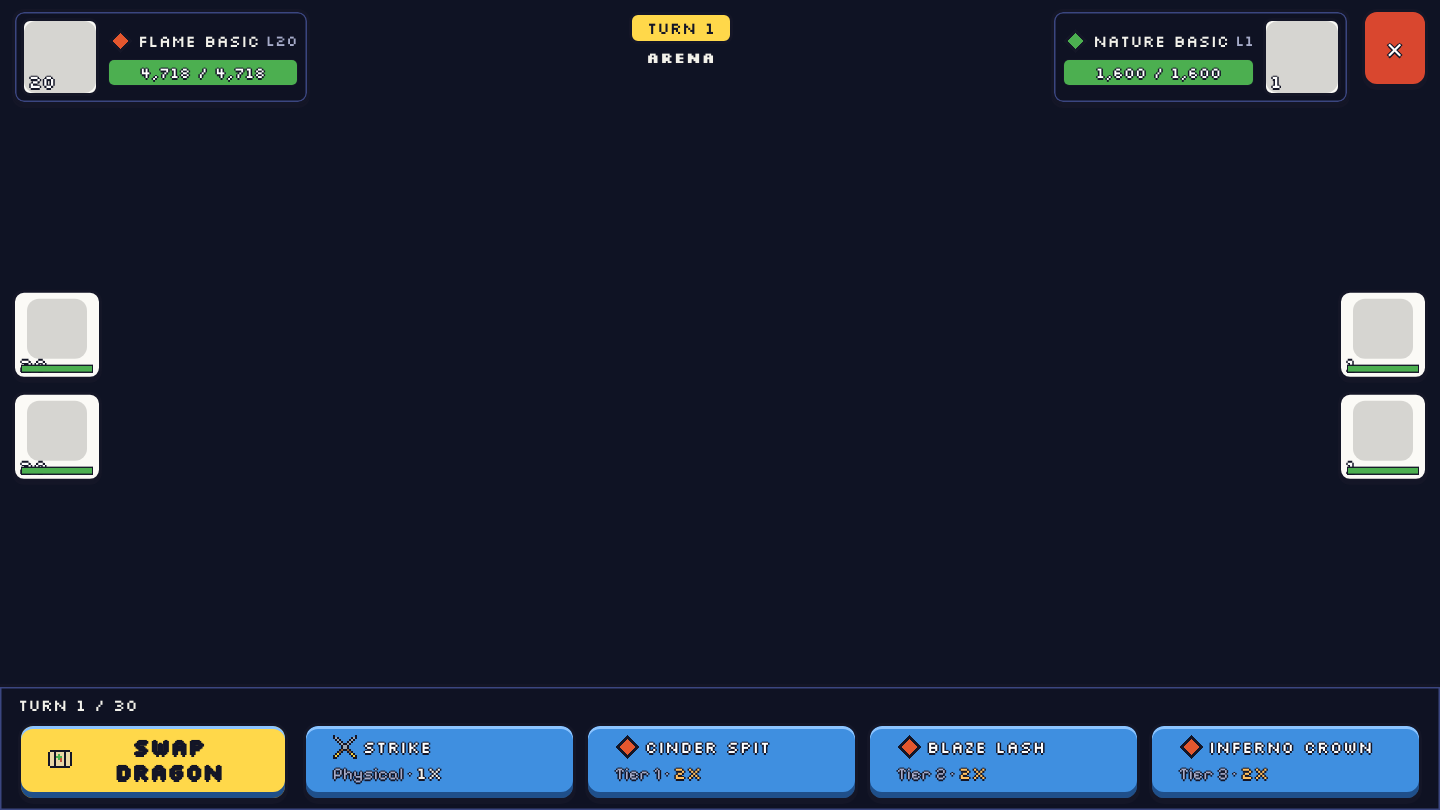
it: BattlePanel › Escape closes the Swap list first, then asks to abandon
The image size is (1440, 810).
Step 1. Click the button "Swap Dragon" → (153, 762), box [18, 723, 288, 801]
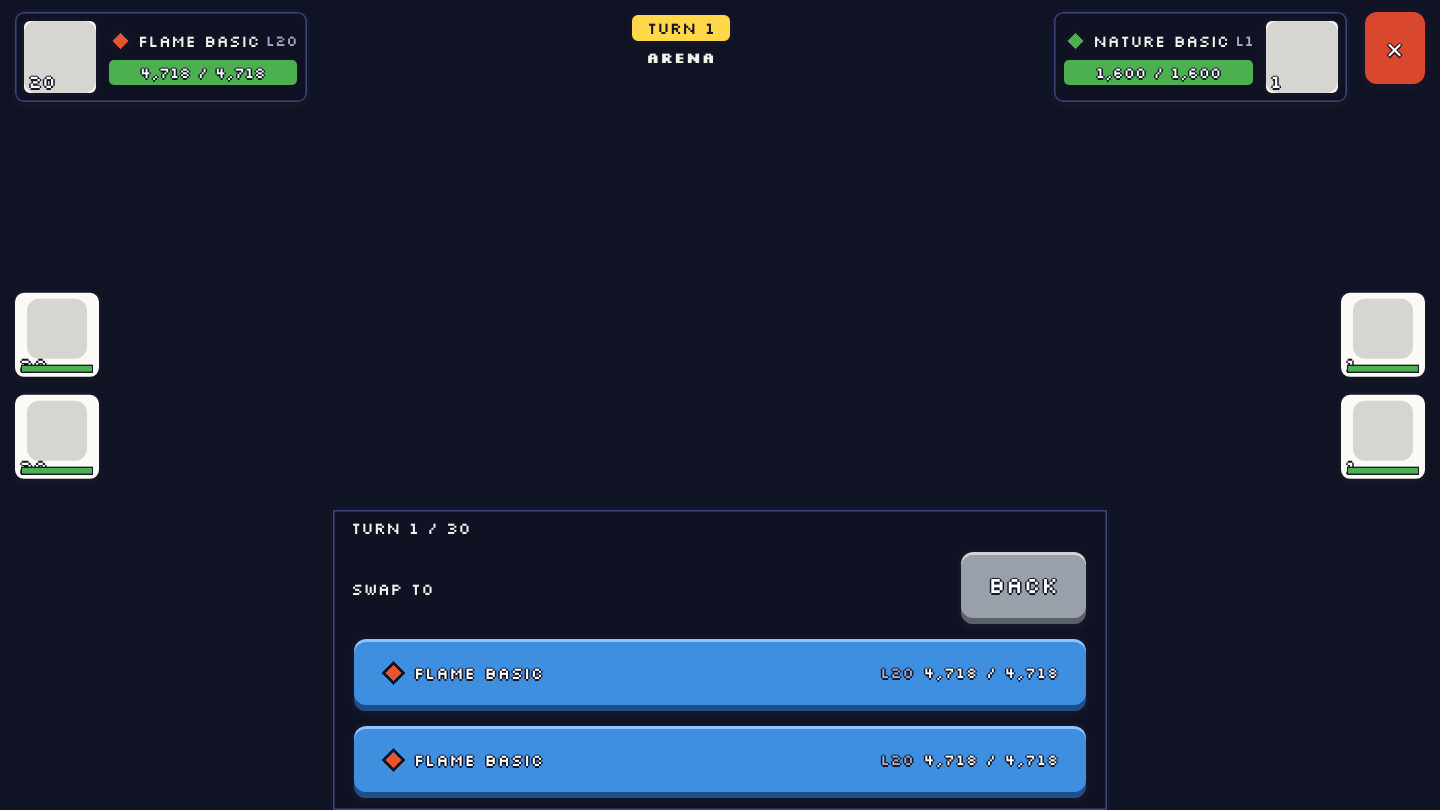
Step 2. Press Escape
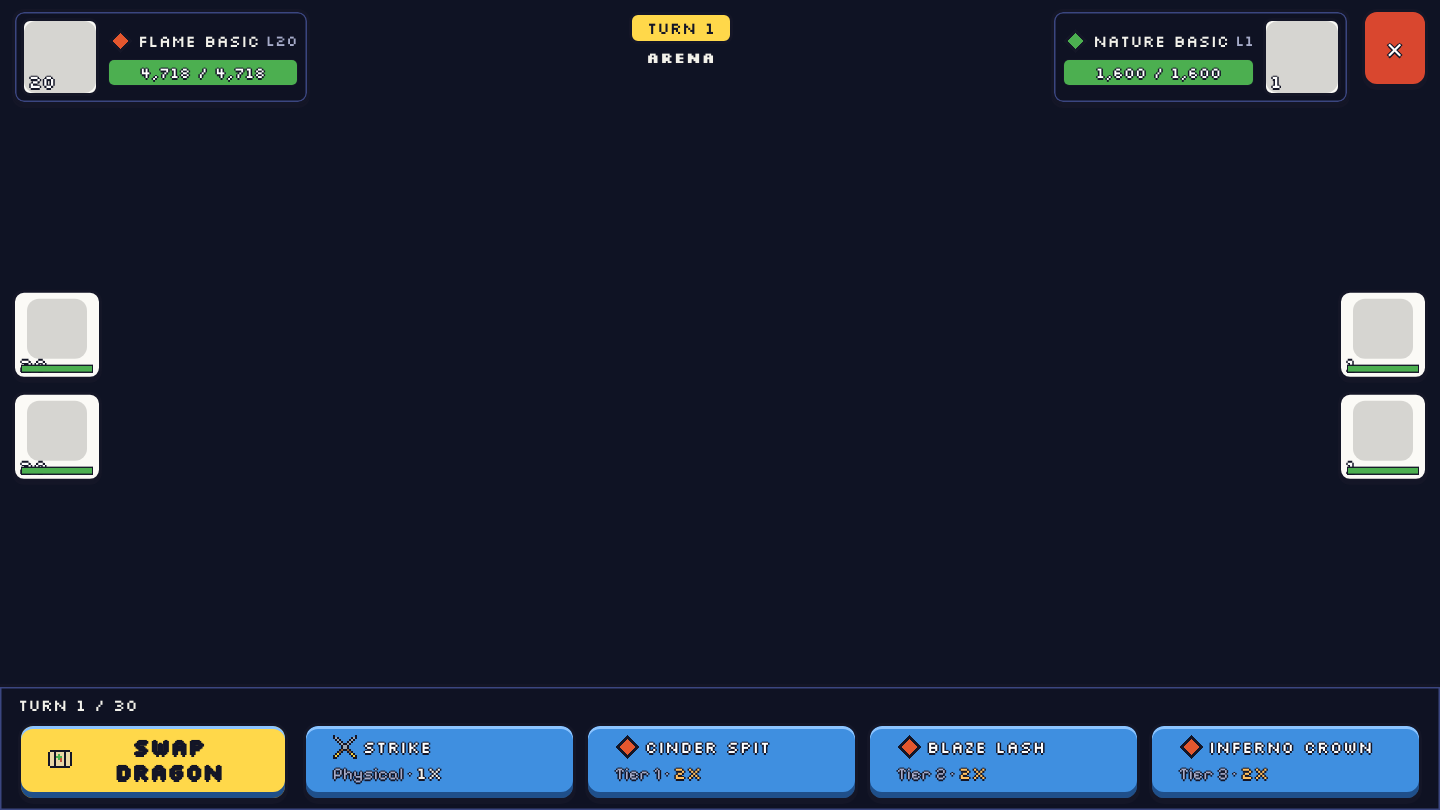
Step 3. Press Escape
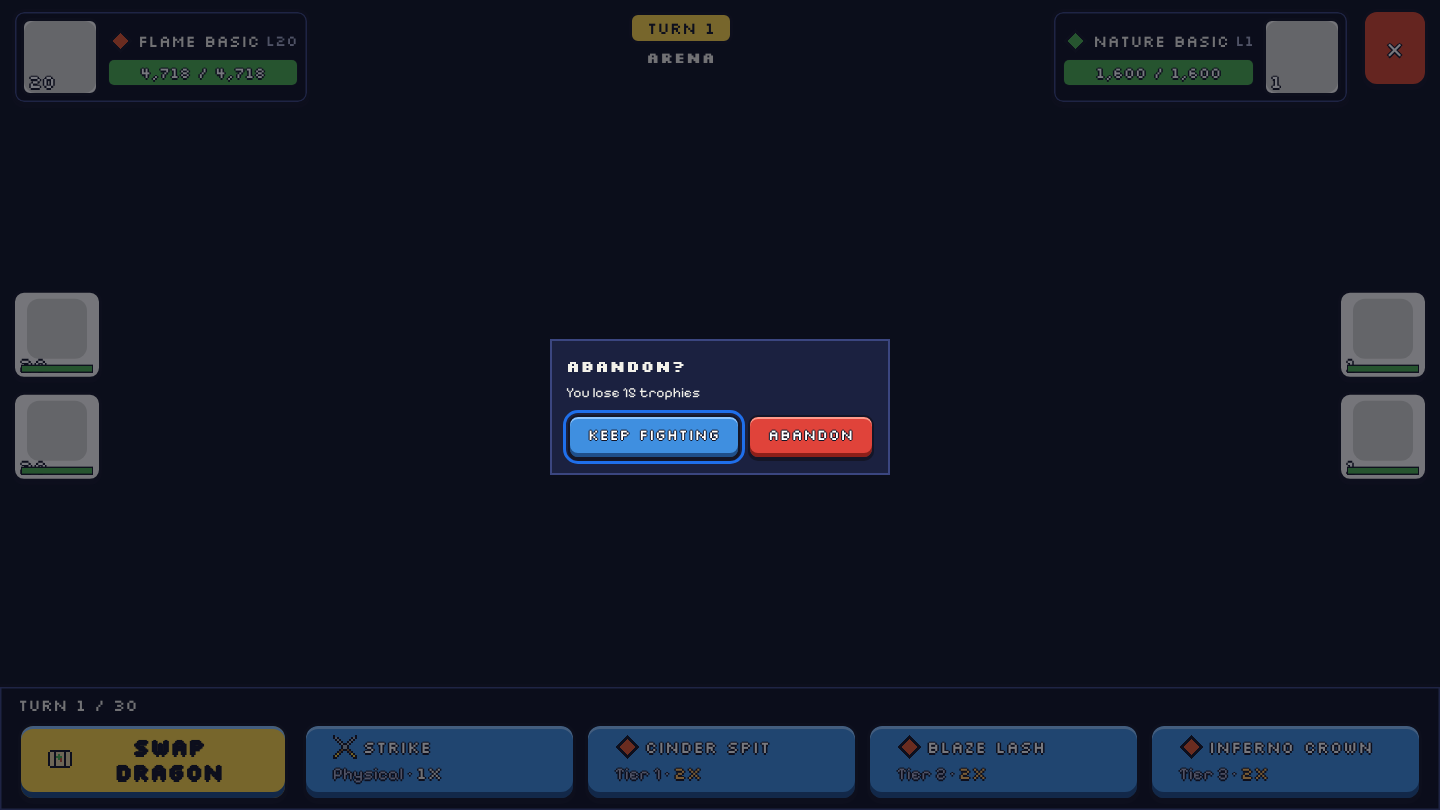
Now the dialog "Abandon?" is shown, box [550, 339, 890, 475]
